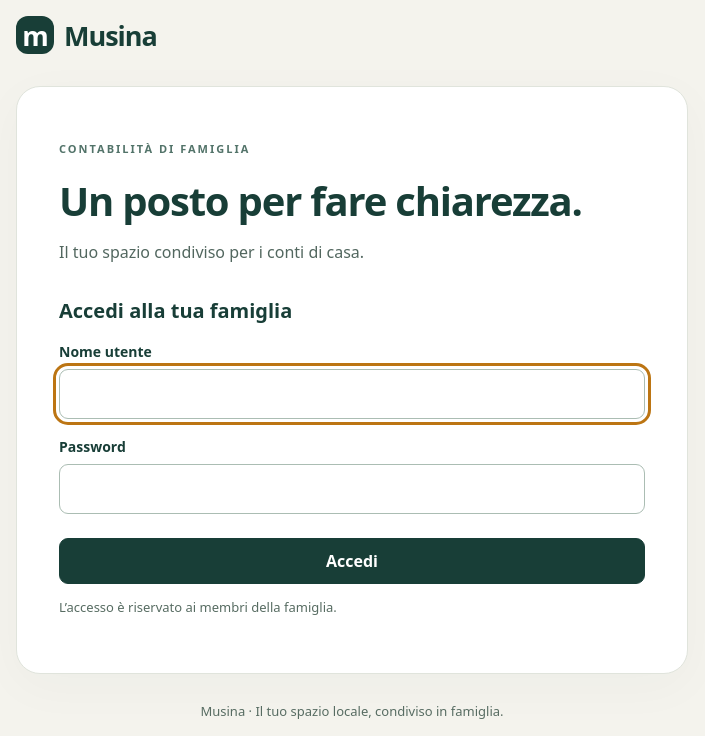
Test: Collegamento Musina › richiede login, non registra utenti e permette logout
The image size is (705, 736).
Step 1. Type "utente.sintetico" into the field labelled "Nome utente" → (352, 394), box [59,369,645,419]
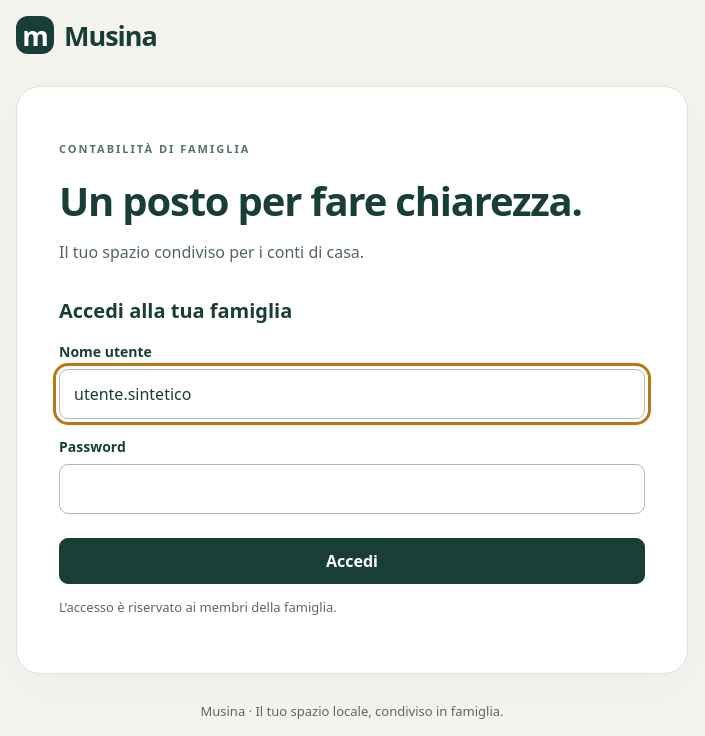
Step 2. Type "synthetic-password" into the password field labelled "Password" → (352, 489), box [59,464,645,514]
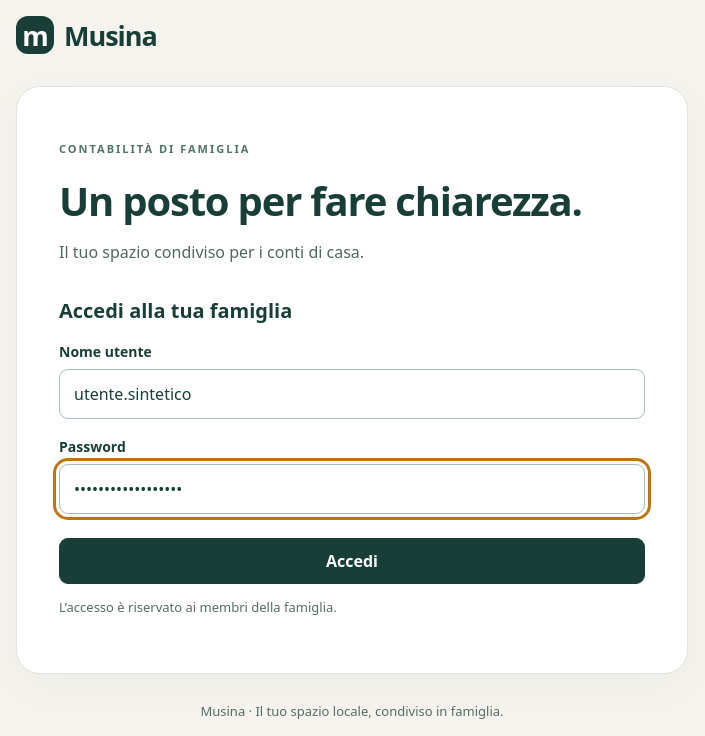
Step 3. Click the button "Accedi" → (352, 561), box [59,538,645,584]
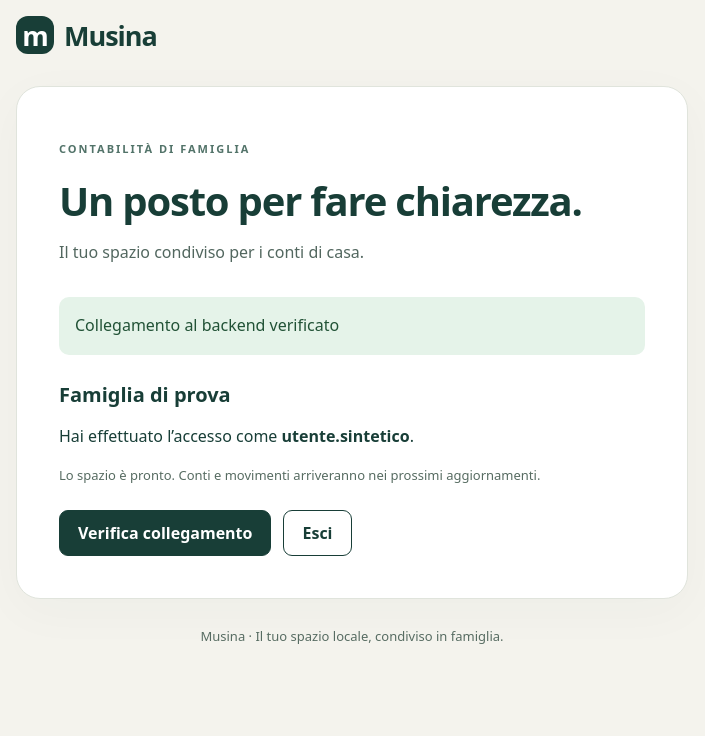
Expected: the heading "Famiglia di prova" is shown, [59,381,231,408]
Step 4. Click the button "Esci" → (318, 533), box [284,510,352,556]
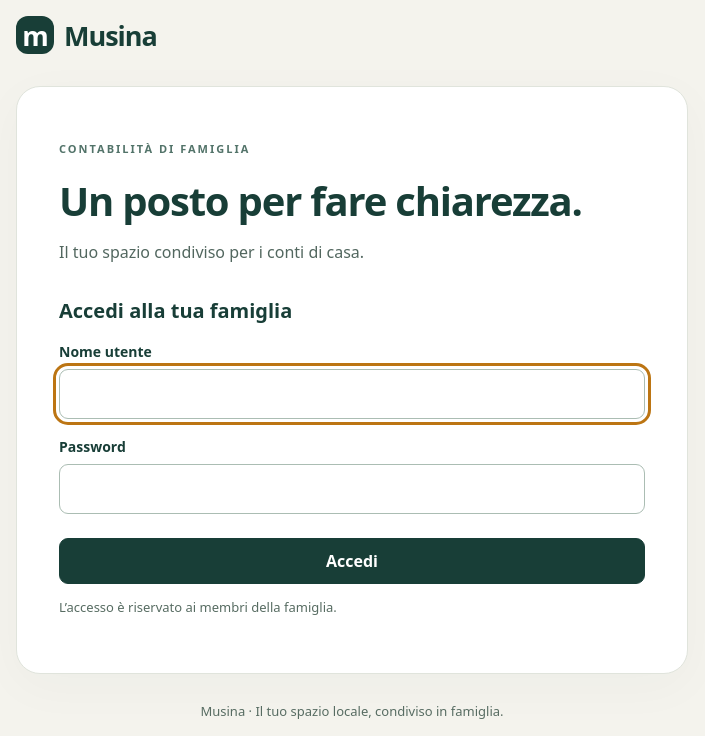
Expected: the field labelled "Nome utente" is shown, [59,369,645,419]
